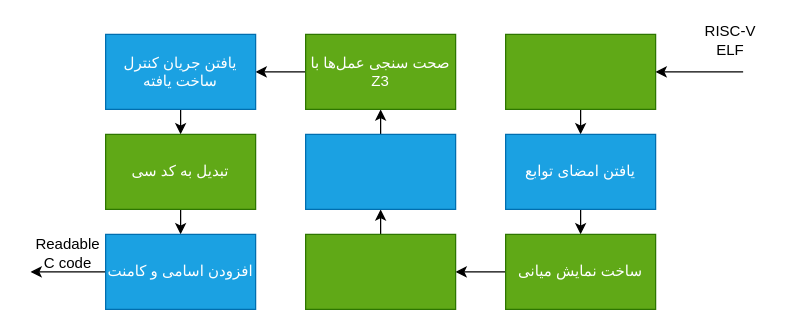
Some shapes in this 790 by 331 pixel diagram are drawn without their labels. The shapes that lost their labels are listed below. From the top down, each one's centre as x and y in pixels, then its label:
the point at 580,71: objdump -d
the point at 380,171: عملیات‌های مدل زبانی
the point at 380,271: عملیات‌های الگوریتمی روی نمایش میانی
